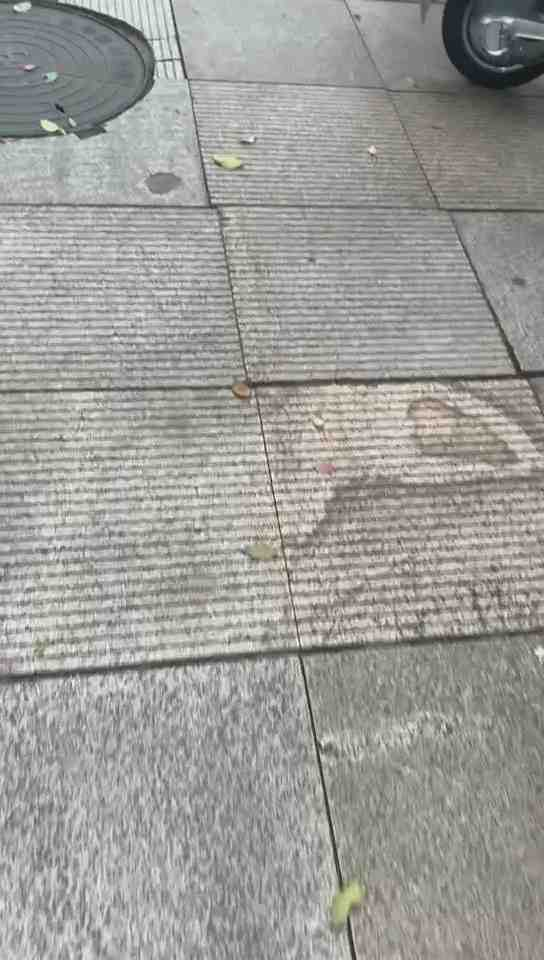leaf: (323, 877, 371, 949), (239, 535, 286, 573), (211, 151, 254, 171), (227, 377, 257, 400)
